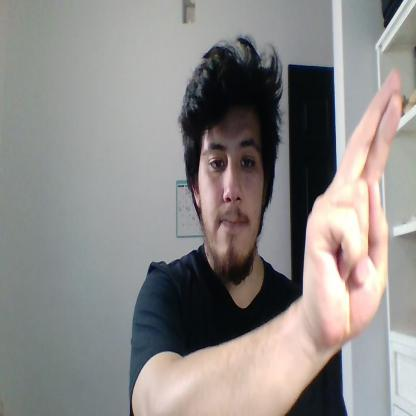R: (303, 70, 401, 347)
